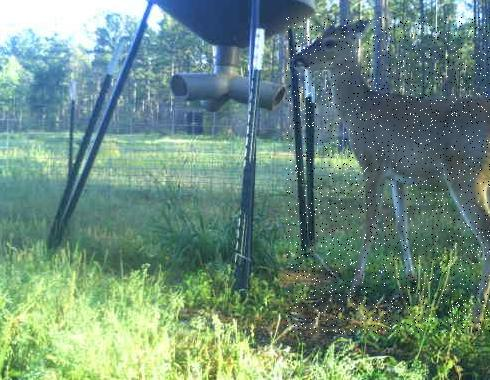Deer: (286, 17, 490, 334)
